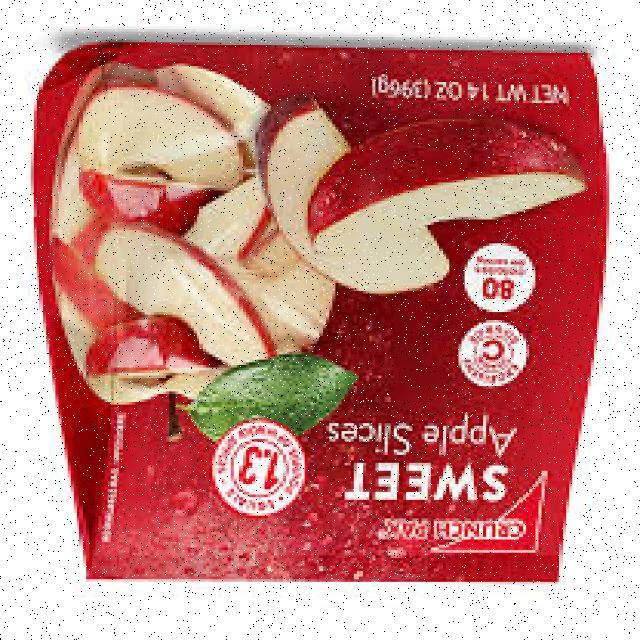Apple: (303, 117, 592, 253), (257, 101, 443, 298), (89, 210, 265, 370), (67, 80, 254, 198)
